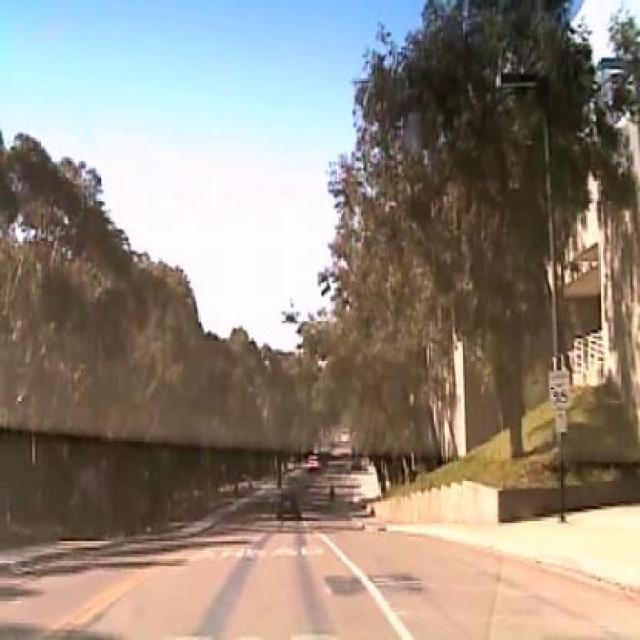speedLimit35: (548, 369, 570, 409)
